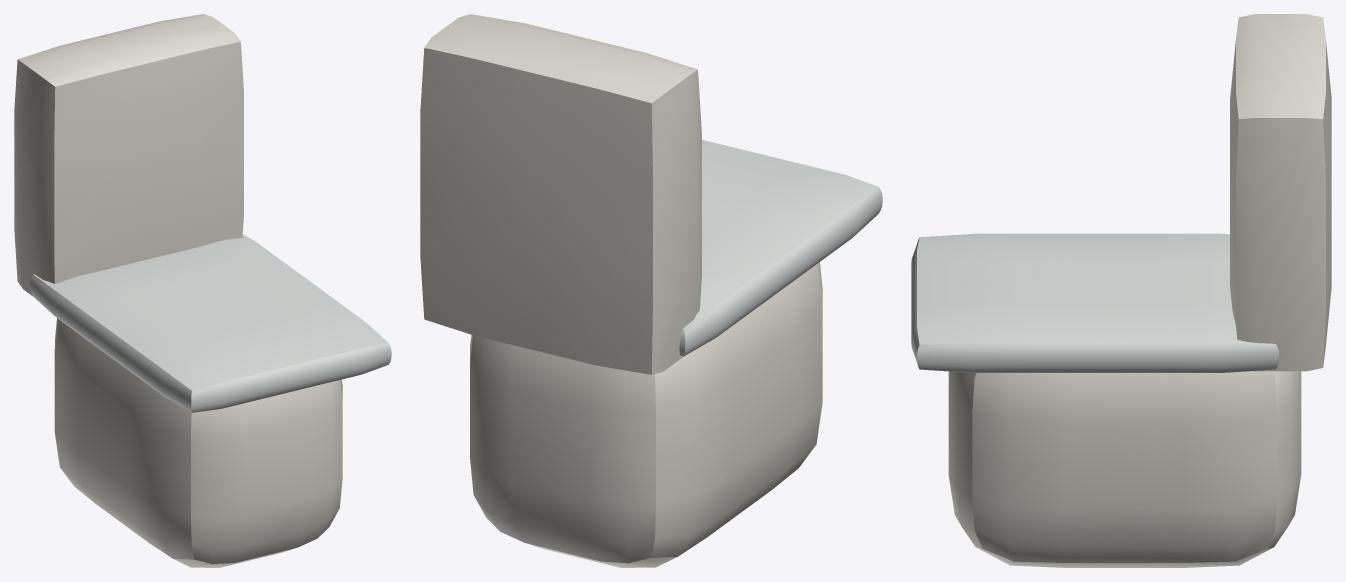
File: toilet.glb
3 renders of one model, left to right at view 1: azimuth 30°, elevation 25°; view 2: azimuth 150°, elevation 25°; view 3: azimuth 270°, elevation 25°, orthographic. The views are drawn at different scales.
Parts seen in each view (by area): view 1: toilet; view 2: toilet; view 3: toilet.
Part boxes in pixels (x1=…): toilet: x1=14, y1=14, x2=391, y2=567; toilet: x1=420, y1=14, x2=882, y2=567; toilet: x1=911, y1=14, x2=1331, y2=567.
Bounding box in the file's own units: 0.4 × 0.785 × 0.62.
Materials: 3 (3 with a texture image).
